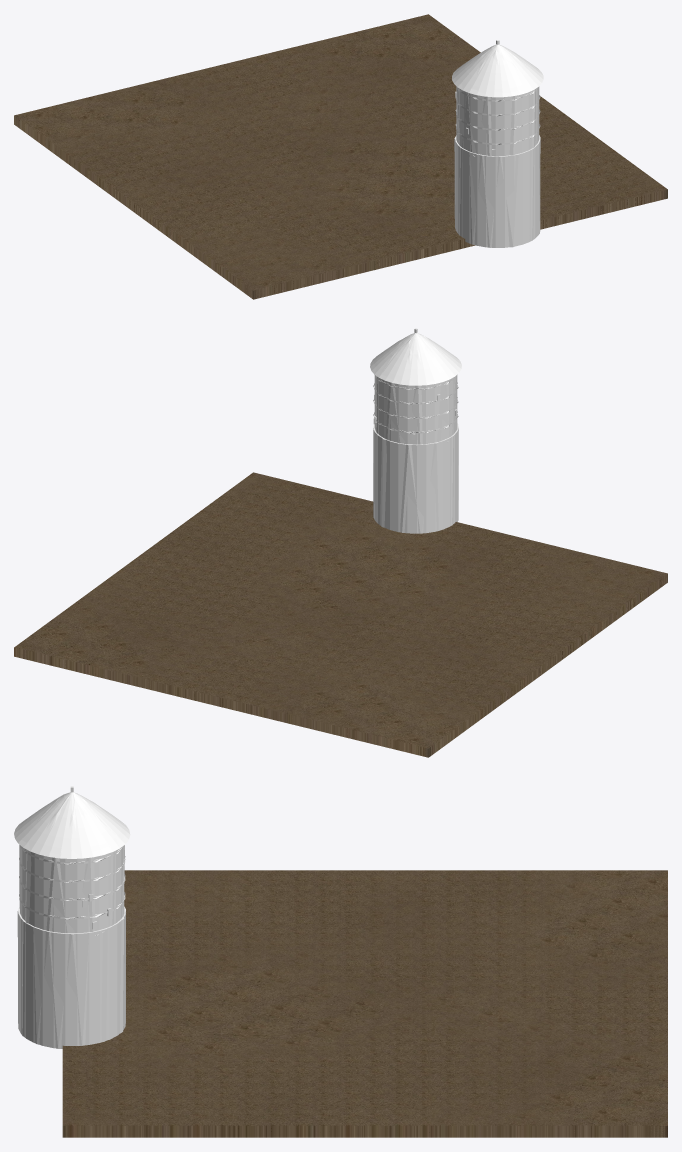
Rendered from chunk_2_0.glb.
3 views of the same model, one above another, from view 1: azimuth 30°, elevation 25°; view 2: azimuth 150°, elevation 25°; view 3: azimuth 270°, elevation 25° (orthographic). The views are drawn at different scales.
Parts seen in each view (by area): view 1: Terrain_L0, Terrain_L1, Terrain_L2, Buildings_L0, Buildings_L1; view 2: Terrain_L0, Terrain_L2, Terrain_L1, Buildings_L0, Buildings_L1; view 3: Terrain_L0, Terrain_L1, Terrain_L2, Buildings_L0, Buildings_L1.
Part boxes in pixels (<box>): Terrain_L0: <box>14,14,667,299</box>; Terrain_L1: <box>14,14,667,298</box>; Terrain_L2: <box>15,15,667,299</box>; Buildings_L0: <box>454,40,543,247</box>; Buildings_L1: <box>452,44,543,247</box>; Terrain_L0: <box>14,472,667,757</box>; Terrain_L2: <box>14,473,667,757</box>; Terrain_L1: <box>14,472,667,757</box>; Buildings_L0: <box>373,328,458,533</box>; Buildings_L1: <box>370,333,461,533</box>; Terrain_L0: <box>62,870,667,1137</box>; Terrain_L1: <box>62,870,667,1137</box>; Terrain_L2: <box>62,870,667,1137</box>; Buildings_L0: <box>15,786,128,1048</box>; Buildings_L1: <box>14,792,130,1048</box>.
Bounding box in the file's own units: 96 × 43.33 × 104.
Materials: 4 (1 with a texture image).
